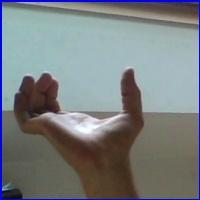B: (9, 62, 160, 172)
